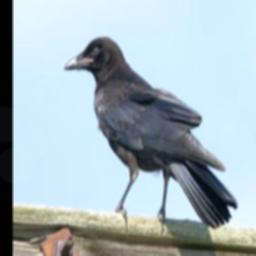Crow: (63, 36, 238, 229)
